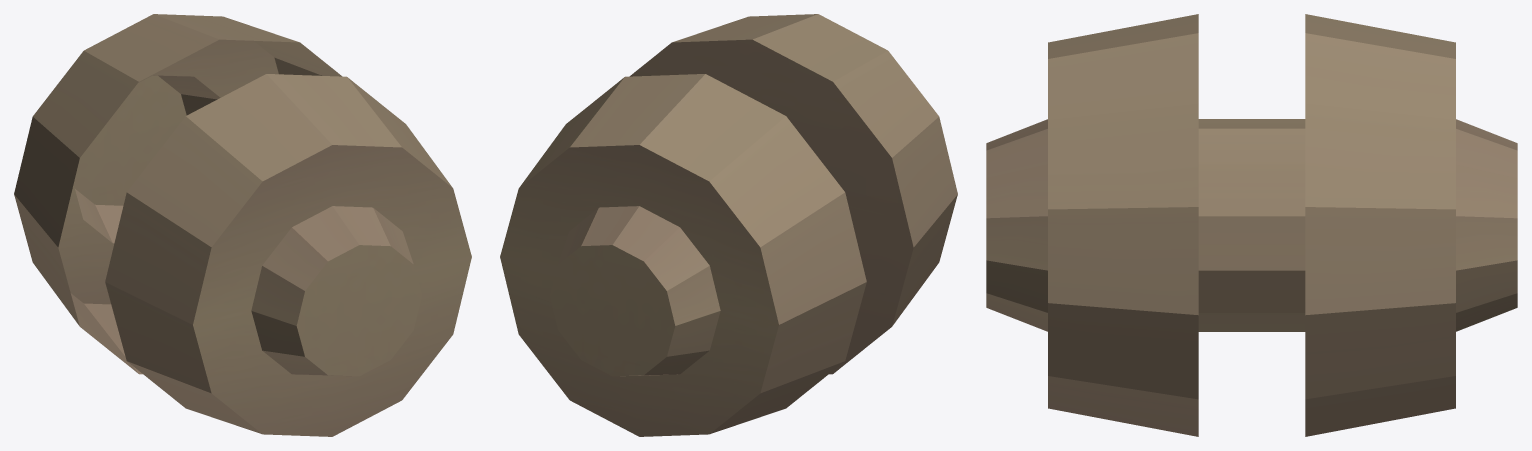
Rendered from SM_ChandelierWheel.fbx.
3 views of the same model, side by side, from view 1: azimuth 30°, elevation 25°; view 2: azimuth 150°, elevation 25°; view 3: azimuth 270°, elevation 25° (orthographic). The views are drawn at different scales.
Visible parts, largest first — view 1: Cylinder.017; view 2: Cylinder.017; view 3: Cylinder.017.
Part boxes in pixels (x1=…): Cylinder.017: x1=14, y1=14, x2=471, y2=436; Cylinder.017: x1=500, y1=14, x2=957, y2=436; Cylinder.017: x1=986, y1=14, x2=1517, y2=436.
Size of the model in its own units: 90.29 by 113 by 90.29.
